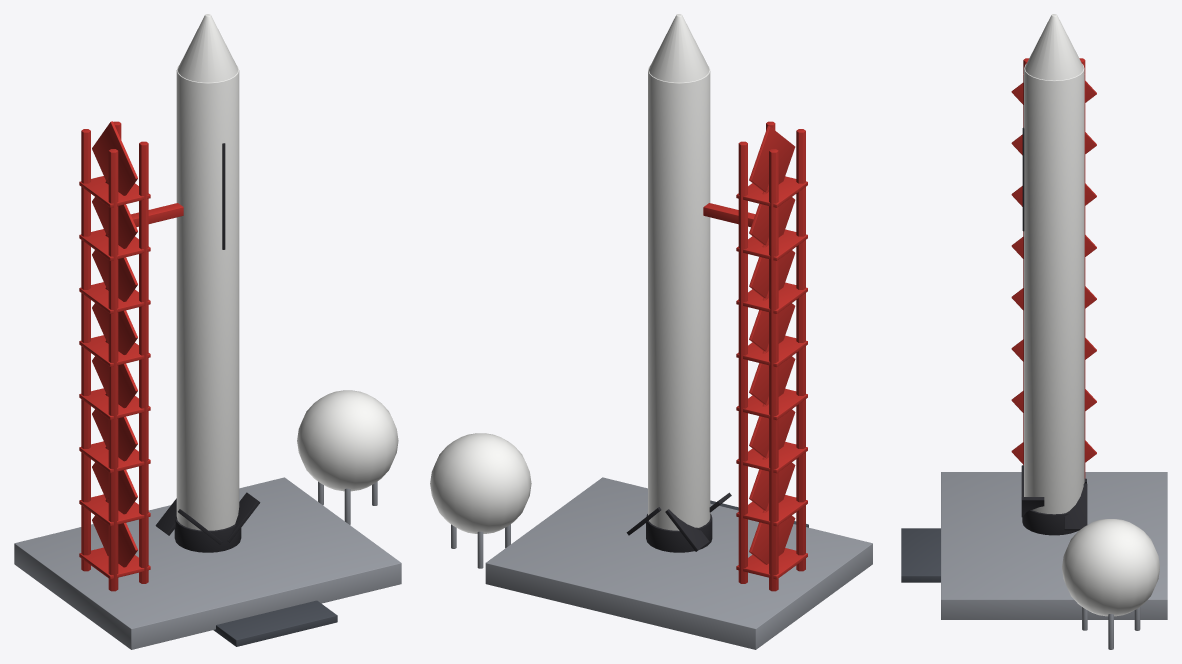
The model's file is marco_canaveral.glb.
3 views of the same model, side by side, from view 1: azimuth 30°, elevation 25°; view 2: azimuth 150°, elevation 25°; view 3: azimuth 270°, elevation 25° (orthographic). The views are drawn at different scales.
Parts seen in each view (by area): view 1: marco_canaveral; view 2: marco_canaveral; view 3: marco_canaveral.
Boxes of the visible parts, x1=… form: marco_canaveral: x1=14, y1=14, x2=401, y2=649; marco_canaveral: x1=430, y1=14, x2=872, y2=649; marco_canaveral: x1=901, y1=14, x2=1167, y2=649.
Bounding box in the file's own units: 20.56 × 31.75 × 14.1.
